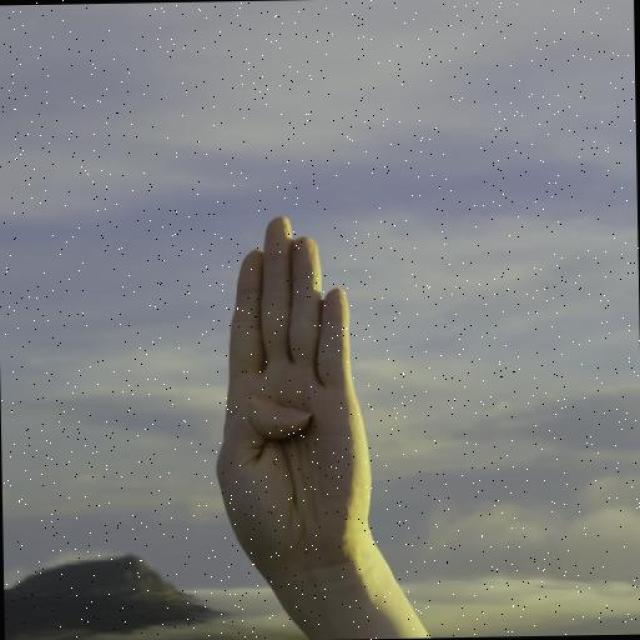B: (204, 191, 379, 590)
